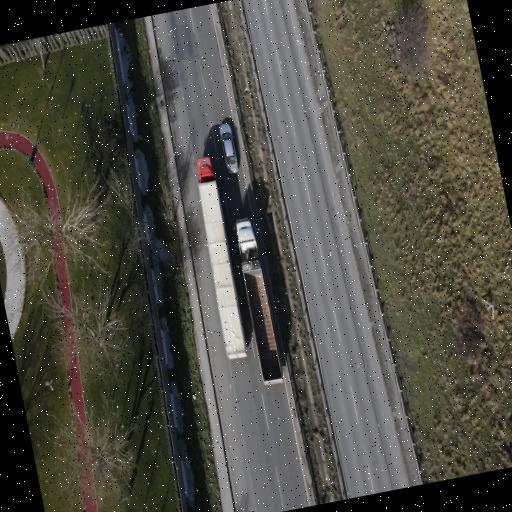car: (219, 124, 237, 173)
truck: (196, 158, 246, 359), (235, 219, 282, 385)
